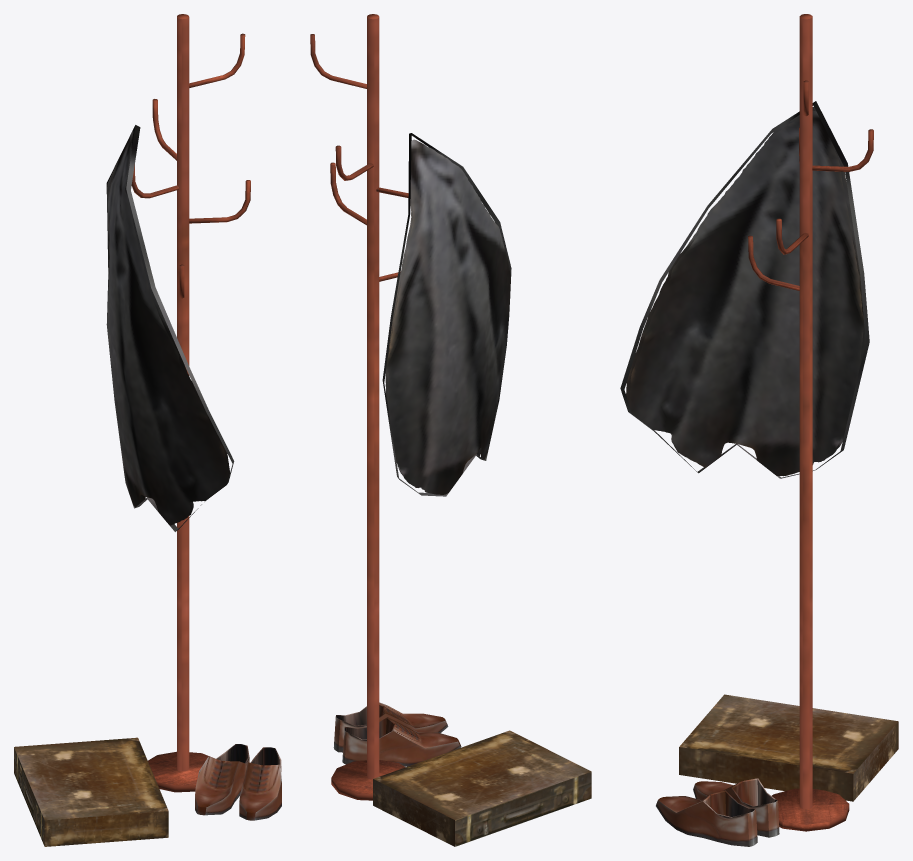
File: coat_rack.FBX
3 renders of one model, left to right at view 1: azimuth 30°, elevation 25°; view 2: azimuth 150°, elevation 25°; view 3: azimuth 270°, elevation 25°, orthographic. The views are drawn at different scales.
Parts seen in each view (by area): view 1: coat_rack; view 2: coat_rack; view 3: coat_rack.
Boxes of the visible parts, bbox=[...] form: coat_rack: bbox=[14, 14, 281, 846]; coat_rack: bbox=[310, 14, 591, 846]; coat_rack: bbox=[620, 14, 898, 846].
Size of the model in its own units: 34.33 by 102 by 32.39.
